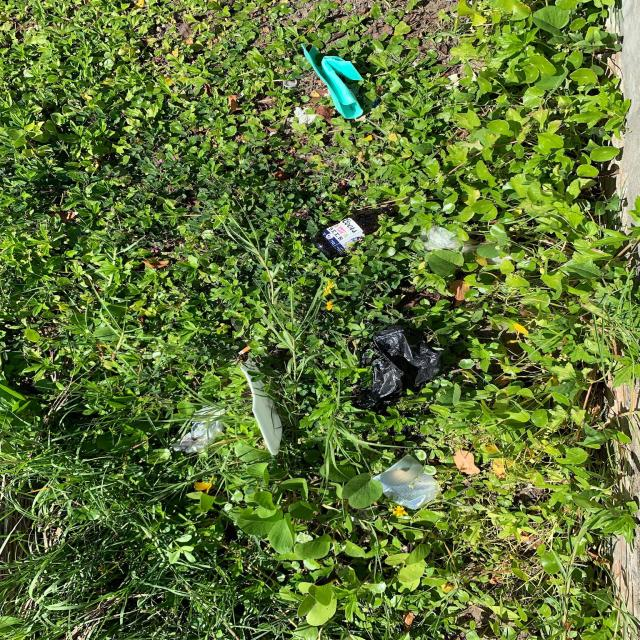litter: (347, 326, 442, 417), (299, 42, 367, 120), (239, 362, 288, 459), (369, 451, 441, 510), (421, 226, 511, 266), (172, 404, 228, 452), (312, 217, 368, 261), (235, 342, 256, 353)
